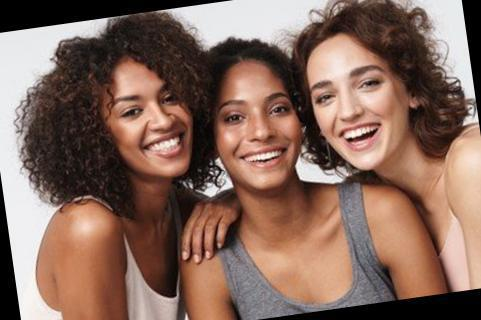Sober: (309, 56, 397, 164), (214, 77, 296, 179), (110, 74, 192, 174)
